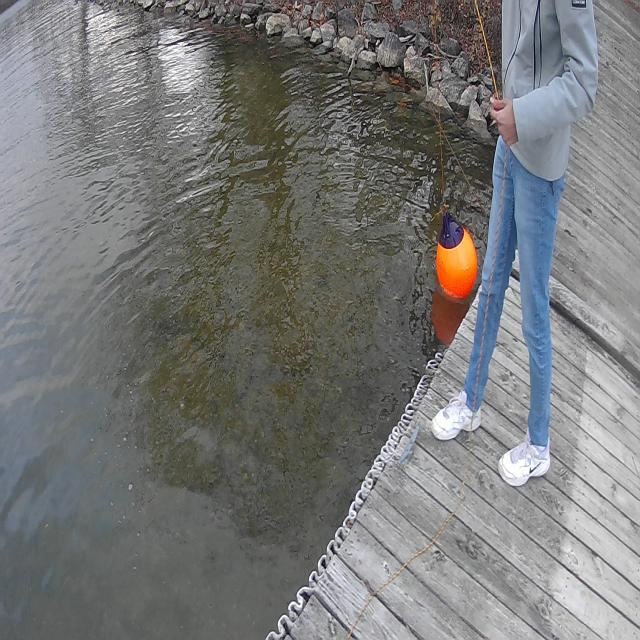Buoy: (432, 195, 482, 308)
